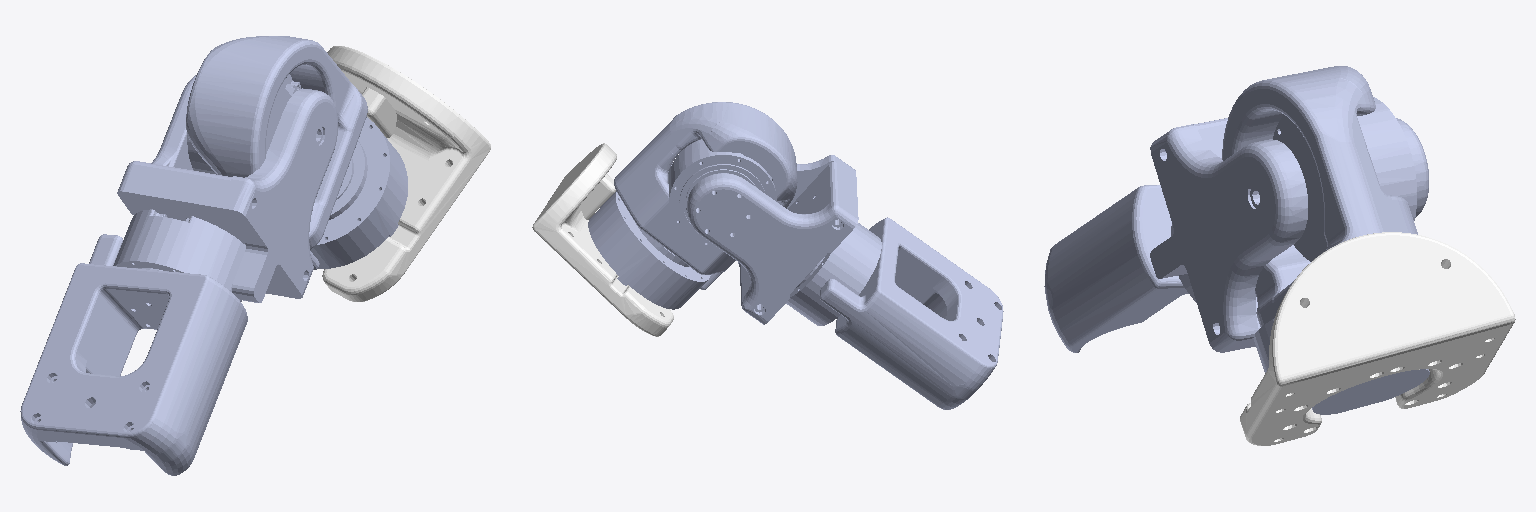
URDF robot description (first3links5.SLDASM):
<?xml version="1.0" encoding="utf-8"?>
<!-- This URDF was automatically created by SolidWorks to URDF Exporter! Originally created by [author] ([email redacted]) 
     Commit Version: 1.6.0-4-g7f85cfe  Build Version: 1.6.7995.38578
     For more information, please see http://wiki.ros.org/sw_urdf_exporter -->
<robot
  name="first3links5.SLDASM">
  <link name="world"></link>
  <joint name="floating_base_joint" type="floating">
    <parent link="world"/>
    <child link="Hip Part 1"/>
  </joint>
  <link
    name="Hip Part 1">
    <inertial>
      <origin
        xyz="-0.112820540366583 0.103932286888556 0.400779775663237"
        rpy="0 0 0" />
      <mass
        value="0.741275503444394" />
      <inertia
        ixx="0.00276479318877344"
        ixy="0.000368641783125821"
        ixz="-0.000678871558410122"
        iyy="0.00213374011417088"
        iyz="-0.000304374042291666"
        izz="0.00248091124729039" />
    </inertial>
    <visual>
      <origin
        xyz="0 0 0"
        rpy="0 0 0" />
      <geometry>
        <mesh
          filename="package://first3links5.SLDASM/meshes/Hip Part 1.STL" />
      </geometry>
      <material
        name="">
        <color
          rgba="1 1 1 0.5" />
      </material>
    </visual>
    <collision>
      <origin
        xyz="0 0 0"
        rpy="0 0 0" />
      <geometry>
        <mesh
          filename="package://first3links5.SLDASM/meshes/Hip Part 1.STL" />
      </geometry>
    </collision>
  </link>
  <link
    name="Hip pitch motor outer">
    <inertial>
      <origin
        xyz="-5.25258669531459E-06 -0.031602301919343 1.43388676443479E-05"
        rpy="0 0 0" />
      <mass
        value="0.595660024083284" />
      <inertia
        ixx="0.000688610322747581"
        ixy="-9.26039730028889E-08"
        ixz="-4.32117135975909E-06"
        iyy="0.00113330157177616"
        iyz="2.52796610396649E-07"
        izz="0.000701726059424541" />
    </inertial>
    <visual>
      <origin
        xyz="0 0 0"
        rpy="0 0 0" />
      <geometry>
        <mesh
          filename="package://first3links5.SLDASM/meshes/Hip pitch motor outer.STL" />
      </geometry>
      <material
        name="">
        <color
          rgba="0.796078431372549 0.823529411764706 0.937254901960784 1" />
      </material>
    </visual>
    <collision>
      <origin
        xyz="0 0 0"
        rpy="0 0 0" />
      <geometry>
        <mesh
          filename="package://first3links5.SLDASM/meshes/Hip pitch motor outer.STL" />
      </geometry>
    </collision>
  </link>
  <joint
    name="Hip pitch motor outer"
    type="fixed">
    <origin
      xyz="-0.17878 0.081301 0.40184"
      rpy="0.84816 0.059345 2.1183" />
    <parent
      link="Hip Part 1" />
    <child
      link="Hip pitch motor outer" />
    <axis
      xyz="0 0 0" />
  </joint>
  <link
    name="Hip pitch motor inner">
    <inertial>
      <origin
        xyz="2.60902410786912E-15 -0.0121410289179674 -3.96904731303493E-15"
        rpy="0 0 0" />
      <mass
        value="0.0672931502593425" />
      <inertia
        ixx="1.88421375460619E-05"
        ixy="-2.01593841446523E-19"
        ixz="-2.11758236813575E-21"
        iyy="3.22798842131266E-05"
        iyz="-2.55803950070799E-19"
        izz="1.88421375460619E-05" />
    </inertial>
    <visual>
      <origin
        xyz="0 0 0"
        rpy="0 0 0" />
      <geometry>
        <mesh
          filename="package://first3links5.SLDASM/meshes/Hip pitch motor inner.STL" />
      </geometry>
      <material
        name="">
        <color
          rgba="0.792156862745098 0.819607843137255 0.933333333333333 1" />
      </material>
    </visual>
    <collision>
      <origin
        xyz="0 0 0"
        rpy="0 0 0" />
      <geometry>
        <mesh
          filename="package://first3links5.SLDASM/meshes/Hip pitch motor inner.STL" />
      </geometry>
    </collision>
  </link>
  <joint
    name="Hip pitch motor inner"
    type="revolute">
    <origin
      xyz="0 0 0"
      rpy="0 0 0" />
    <parent
      link="Hip pitch motor outer" />
    <child
      link="Hip pitch motor inner" />
    <axis
      xyz="0 1 0" />
    <limit
      lower="0"
      upper="0"
      effort="0"
      velocity="0" />
  </joint>
  <link
    name="Hip Yaw">
    <inertial>
      <origin
        xyz="0.0120619752374951 0.0638115269841176 -0.00051831362941504"
        rpy="0 0 0" />
      <mass
        value="0.658027666053" />
      <inertia
        ixx="0.00277820257464213"
        ixy="-9.75985448804177E-05"
        ixz="-7.33382285987615E-06"
        iyy="0.00139966144338352"
        iyz="-2.64698296771595E-05"
        izz="0.00195865346293585" />
    </inertial>
    <visual>
      <origin
        xyz="0 0 0"
        rpy="0 0 0" />
      <geometry>
        <mesh
          filename="package://first3links5.SLDASM/meshes/Hip Yaw.STL" />
      </geometry>
      <material
        name="">
        <color
          rgba="0.792156862745098 0.819607843137255 0.933333333333333 1" />
      </material>
    </visual>
    <collision>
      <origin
        xyz="0 0 0"
        rpy="0 0 0" />
      <geometry>
        <mesh
          filename="package://first3links5.SLDASM/meshes/Hip Yaw.STL" />
      </geometry>
    </collision>
  </link>
  <joint
    name="Hip Yaw"
    type="fixed">
    <origin
      xyz="0 0 0"
      rpy="0 0 0" />
    <parent
      link="Hip pitch motor inner" />
    <child
      link="Hip Yaw" />
    <axis
      xyz="0 0 0" />
  </joint>
  <link
    name="Hip Yaw motor outer">
    <inertial>
      <origin
        xyz="5.55111512312578E-17 0.00924294771546275 -5.55111512312578E-17"
        rpy="0 0 0" />
      <mass
        value="0.328670052016147" />
      <inertia
        ixx="0.000317459182853272"
        ixy="2.57498015965307E-19"
        ixz="1.25360876193636E-19"
        iyy="0.000505904500163356"
        iyz="-3.11708124589583E-19"
        izz="0.000305337859651403" />
    </inertial>
    <visual>
      <origin
        xyz="0 0 0"
        rpy="0 0 0" />
      <geometry>
        <mesh
          filename="package://first3links5.SLDASM/meshes/Hip Yaw motor outer.STL" />
      </geometry>
      <material
        name="">
        <color
          rgba="0.792156862745098 0.819607843137255 0.933333333333333 1" />
      </material>
    </visual>
    <collision>
      <origin
        xyz="0 0 0"
        rpy="0 0 0" />
      <geometry>
        <mesh
          filename="package://first3links5.SLDASM/meshes/Hip Yaw motor outer.STL" />
      </geometry>
    </collision>
  </link>
  <joint
    name="Hip Yaw motor outer"
    type="fixed">
    <origin
      xyz="0.0171499999999972 0.0784999999999992 0"
      rpy="1.5707963267949 1.5707963267949 0" />
    <parent
      link="Hip Yaw" />
    <child
      link="Hip Yaw motor outer" />
    <axis
      xyz="0 0 0" />
  </joint>
  <link
    name="Hip yaw motor inner">
    <inertial>
      <origin
        xyz="1.0547118733939E-15 0.0283223407944125 -3.60822483003176E-15"
        rpy="0 0 0" />
      <mass
        value="0.0918022748743478" />
      <inertia
        ixx="3.34428943026208E-05"
        ixy="-8.87690528722507E-19"
        ixz="-2.11758236813575E-21"
        iyy="5.93141739539544E-05"
        iyz="9.97381295391939E-19"
        izz="3.34428943026208E-05" />
    </inertial>
    <visual>
      <origin
        xyz="0 0 0"
        rpy="0 0 0" />
      <geometry>
        <mesh
          filename="package://first3links5.SLDASM/meshes/Hip yaw motor inner.STL" />
      </geometry>
      <material
        name="">
        <color
          rgba="0.792156862745098 0.819607843137255 0.933333333333333 1" />
      </material>
    </visual>
    <collision>
      <origin
        xyz="0 0 0"
        rpy="0 0 0" />
      <geometry>
        <mesh
          filename="package://first3links5.SLDASM/meshes/Hip yaw motor inner.STL" />
      </geometry>
    </collision>
  </link>
  <joint
    name="Hip yaw motor inner"
    type="revolute">
    <origin
      xyz="0 0 0"
      rpy="-3.1416 1.0074 3.1416" />
    <parent
      link="Hip Yaw motor outer" />
    <child
      link="Hip yaw motor inner" />
    <axis
      xyz="0 1 0" />
    <limit
      lower="0"
      upper="0"
      effort="0"
      velocity="0" />
  </joint>
  <link
    name="Leg part 1">
    <inertial>
      <origin
        xyz="0.0760084684262597 0.0228490730772972 1.62919071011736E-08"
        rpy="0 0 0" />
      <mass
        value="0.540915051298542" />
      <inertia
        ixx="0.00123063214283884"
        ixy="0.000272316422423419"
        ixz="-1.61613828209332E-10"
        iyy="0.00142286241966032"
        iyz="-3.93438405335914E-10"
        izz="0.00111148936319682" />
    </inertial>
    <visual>
      <origin
        xyz="0 0 0"
        rpy="0 0 0" />
      <geometry>
        <mesh
          filename="package://first3links5.SLDASM/meshes/Leg part 1.STL" />
      </geometry>
      <material
        name="">
        <color
          rgba="0.792156862745098 0.819607843137255 0.933333333333333 1" />
      </material>
    </visual>
    <collision>
      <origin
        xyz="0 0 0"
        rpy="0 0 0" />
      <geometry>
        <mesh
          filename="package://first3links5.SLDASM/meshes/Leg part 1.STL" />
      </geometry>
    </collision>
  </link>
  <joint
    name="Leg part 1"
    type="fixed">
    <origin
      xyz="0 0 0"
      rpy="3.14159265358979 -1.04719755119606 -3.14159265358979" />
    <parent
      link="Hip yaw motor inner" />
    <child
      link="Leg part 1" />
    <axis
      xyz="0 0 0" />
  </joint>
  <link
    name="Leg part 2">
    <inertial>
      <origin
        xyz="0.0578255555727301 -0.0450354041828799 2.10797886368574E-08"
        rpy="0 0 0" />
      <mass
        value="0.262745719753957" />
      <inertia
        ixx="0.000243571020451167"
        ixy="8.33501809311488E-07"
        ixz="-1.92085126315055E-10"
        iyy="0.000731108444438353"
        iyz="1.67355344439881E-10"
        izz="0.000504635321305178" />
    </inertial>
    <visual>
      <origin
        xyz="0 0 0"
        rpy="0 0 0" />
      <geometry>
        <mesh
          filename="package://first3links5.SLDASM/meshes/Leg part 2.STL" />
      </geometry>
      <material
        name="">
        <color
          rgba="0.792156862745098 0.819607843137255 0.933333333333333 1" />
      </material>
    </visual>
    <collision>
      <origin
        xyz="0 0 0"
        rpy="0 0 0" />
      <geometry>
        <mesh
          filename="package://first3links5.SLDASM/meshes/Leg part 2.STL" />
      </geometry>
    </collision>
  </link>
  <joint
    name="Leg part 2"
    type="fixed">
    <origin
      xyz="0 0 0"
      rpy="0 0 0" />
    <parent
      link="Leg part 1" />
    <child
      link="Leg part 2" />
    <axis
      xyz="0 0 0" />
  </joint>
  <link
    name="Roll motor">
    <inertial>
      <origin
        xyz="0 0.0092429477154627 -5.55111512312578E-17"
        rpy="0 0 0" />
      <mass
        value="0.328670052016147" />
      <inertia
        ixx="0.000317459182853272"
        ixy="-2.03287907341032E-20"
        ixz="5.42101086242752E-20"
        iyy="0.000505904500163356"
        iyz="-1.49077798716757E-19"
        izz="0.000305337859651403" />
    </inertial>
    <visual>
      <origin
        xyz="0 0 0"
        rpy="0 0 0" />
      <geometry>
        <mesh
          filename="package://first3links5.SLDASM/meshes/Roll motor.STL" />
      </geometry>
      <material
        name="">
        <color
          rgba="0.792156862745098 0.819607843137255 0.933333333333333 1" />
      </material>
    </visual>
    <collision>
      <origin
        xyz="0 0 0"
        rpy="0 0 0" />
      <geometry>
        <mesh
          filename="package://first3links5.SLDASM/meshes/Roll motor.STL" />
      </geometry>
    </collision>
  </link>
  <joint
    name="Roll motor"
    type="fixed">
    <origin
      xyz="0.120700000000004 0.0171499999999935 0"
      rpy="-1.63973684970919 1.57079631189374 3.07362698024244" />
    <parent
      link="Leg part 1" />
    <child
      link="Roll motor" />
    <axis
      xyz="0 0 0" />
  </joint>
  <link
    name="Roll Motor inner">
    <inertial>
      <origin
        xyz="1.52655665885959E-15 0.0283223407944095 -1.16573417585641E-15"
        rpy="0 0 0" />
      <mass
        value="0.0918022748743475" />
      <inertia
        ixx="3.34428943026207E-05"
        ixy="1.35525271560688E-20"
        ixz="-1.6940658945086E-21"
        iyy="5.93141739539541E-05"
        iyz="-1.60406864386283E-18"
        izz="3.34428943026207E-05" />
    </inertial>
    <visual>
      <origin
        xyz="0 0 0"
        rpy="0 0 0" />
      <geometry>
        <mesh
          filename="package://first3links5.SLDASM/meshes/Roll Motor inner.STL" />
      </geometry>
      <material
        name="">
        <color
          rgba="0.792156862745098 0.819607843137255 0.933333333333333 1" />
      </material>
    </visual>
    <collision>
      <origin
        xyz="0 0 0"
        rpy="0 0 0" />
      <geometry>
        <mesh
          filename="package://first3links5.SLDASM/meshes/Roll Motor inner.STL" />
      </geometry>
    </collision>
  </link>
  <joint
    name="Roll Motor inner"
    type="revolute">
    <origin
      xyz="0 0 0"
      rpy="3.1416 1.4275 3.1416" />
    <parent
      link="Roll motor" />
    <child
      link="Roll Motor inner" />
    <axis
      xyz="0 1 0" />
    <limit
      lower="0"
      upper="0"
      effort="0"
      velocity="0" />
  </joint>
  <link
    name="Leg Part 3">
    <inertial>
      <origin
        xyz="-0.0174753332909793 0.103502972859315 0.00123768702504005"
        rpy="0 0 0" />
      <mass
        value="0.816474054918522" />
      <inertia
        ixx="0.00374492538479917"
        ixy="0.00015329017896739"
        ixz="-1.99783782687881E-06"
        iyy="0.00235393040899868"
        iyz="8.31112350352314E-05"
        izz="0.00202320300841783" />
    </inertial>
    <visual>
      <origin
        xyz="0 0 0"
        rpy="0 0 0" />
      <geometry>
        <mesh
          filename="package://first3links5.SLDASM/meshes/Leg Part 3.STL" />
      </geometry>
      <material
        name="">
        <color
          rgba="0.792156862745098 0.819607843137255 0.933333333333333 1" />
      </material>
    </visual>
    <collision>
      <origin
        xyz="0 0 0"
        rpy="0 0 0" />
      <geometry>
        <mesh
          filename="package://first3links5.SLDASM/meshes/Leg Part 3.STL" />
      </geometry>
    </collision>
  </link>
  <joint
    name="Leg Part 3"
    type="fixed">
    <origin
      xyz="0 0 0"
      rpy="-0.000162813414386833 1.57079630572147 0.00163025613643325" />
    <parent
      link="Roll Motor inner" />
    <child
      link="Leg Part 3" />
    <axis
      xyz="0 0 0" />
  </joint>
</robot>

--- Facts derived from the render (not from the file) ---
Views: 3 orthographic renders of the robot side by side, from view 1: azimuth 30°, elevation 25°; view 2: azimuth 150°, elevation 25°; view 3: azimuth 270°, elevation 25°.
Model first3links5.SLDASM with 12 links and 11 joints (3 revolute, 7 fixed, 1 floating), rooted at world, posed every joint at zero.
Links seen in each view (by area): view 1: Leg Part 3, Hip Yaw, Hip Part 1, Leg part 2, Hip pitch motor outer, Leg part 1, Roll motor, Hip Yaw motor outer; view 2: Leg Part 3, Leg part 1, Hip Yaw, Hip Part 1, Hip pitch motor outer, Roll motor, Hip Yaw motor outer, Leg part 2; view 3: Hip Part 1, Leg part 2, Hip Yaw, Leg Part 3, Hip Yaw motor outer, Hip pitch motor outer, Leg part 1.
Link boxes in pixels (x1,y1,x2,y2): Leg Part 3: (20, 234, 247, 475); Hip Yaw: (186, 36, 367, 269); Hip Part 1: (322, 46, 490, 301); Leg part 2: (220, 88, 337, 302); Hip pitch motor outer: (310, 117, 407, 268); Leg part 1: (117, 75, 282, 295); Roll motor: (113, 209, 245, 301); Hip Yaw motor outer: (187, 74, 300, 174); Leg Part 3: (820, 217, 1003, 409); Leg part 1: (687, 162, 858, 324); Hip Yaw: (614, 102, 797, 289); Hip Part 1: (532, 143, 673, 336); Hip pitch motor outer: (588, 191, 710, 309); Roll motor: (786, 223, 881, 325); Hip Yaw motor outer: (668, 139, 776, 249); Leg part 2: (738, 155, 855, 263); Hip Part 1: (1240, 232, 1515, 445); Leg part 2: (1150, 124, 1307, 352); Hip Yaw: (1222, 66, 1417, 326); Leg Part 3: (1044, 185, 1188, 352); Hip Yaw motor outer: (1273, 97, 1416, 261); Hip pitch motor outer: (1253, 318, 1429, 414); Leg part 1: (1193, 118, 1428, 349).
Size in the robot's own frame: 0.4548 by 0.3053 by 0.2941 metres.
Meshes: 11 distinct files referenced, 11 mesh visuals loaded (11 binary STL).